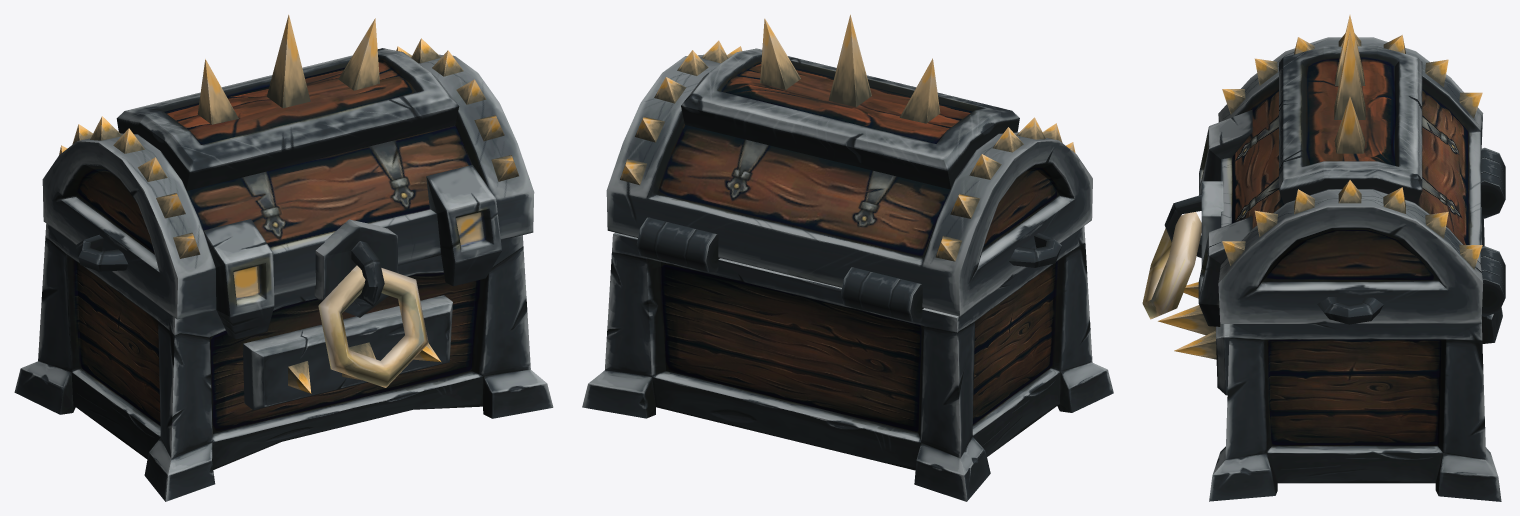
Rendered from chest_1_animation.FBX.
3 renders of one model, left to right at view 1: azimuth 30°, elevation 25°; view 2: azimuth 150°, elevation 25°; view 3: azimuth 270°, elevation 25°, orthographic. The views are drawn at different scales.
Parts seen in each view (by area): view 1: Chest_1_cap, Chest_1; view 2: Chest_1_cap, Chest_1; view 3: Chest_1_cap, Chest_1.
Part boxes in pixels (x1,y1,x2,y2): Chest_1_cap: [42, 14, 534, 387]; Chest_1: [14, 223, 553, 501]; Chest_1_cap: [606, 14, 1092, 316]; Chest_1: [582, 217, 1113, 501]; Chest_1_cap: [1142, 15, 1483, 326]; Chest_1: [1158, 147, 1505, 501].
Bounding box in the file's own units: 103 × 91.42 × 79.17.
